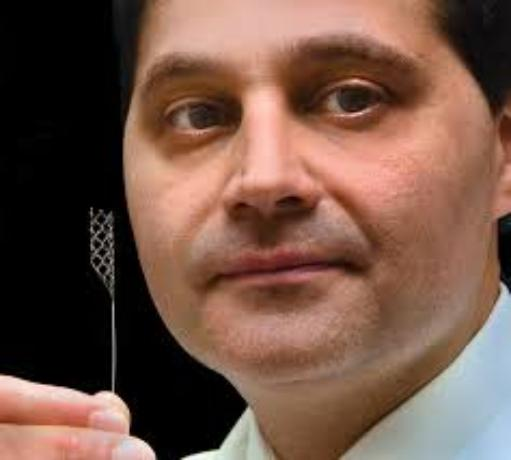left_eye: (309, 84, 401, 123)
left_lip_corner: (328, 256, 370, 282)
right_eye: (168, 102, 237, 139)
right_lip_corner: (206, 267, 237, 288)
